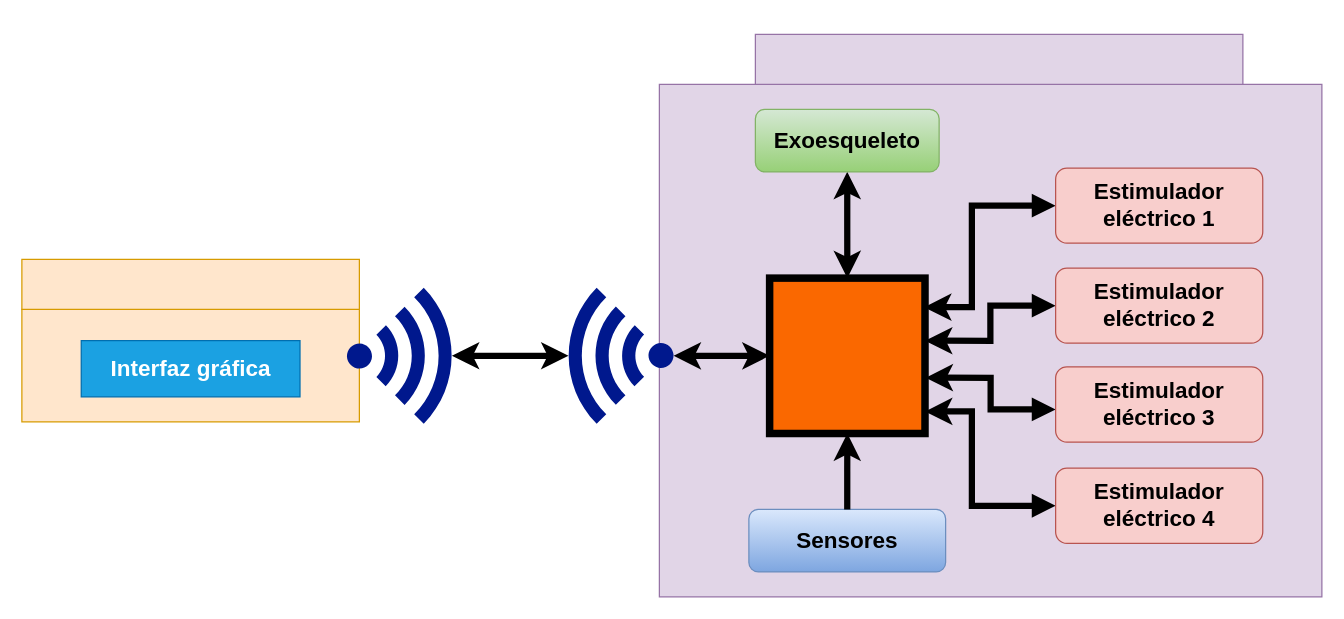
This 1344x619 diagram has some shape labels left out. Here are the shapes that lost their labels. From the top down, the centre of each, then its label:
(998,58): Prótesis híbrida
(190,283): Ordenador
(846,355): MCU
